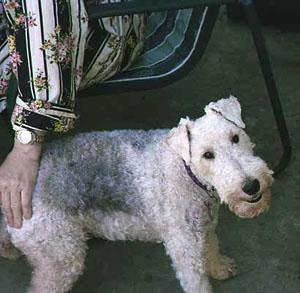wire-haired_fox_terrier: (0, 93, 276, 292)
